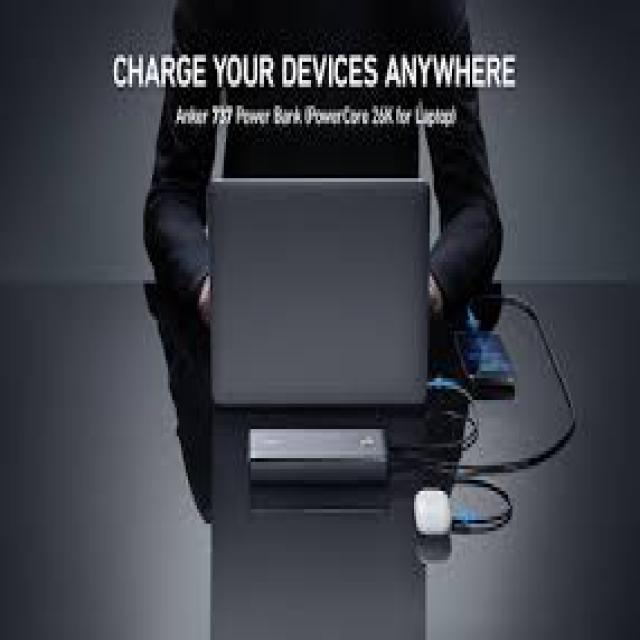portable-charger: (247, 417, 392, 491)
